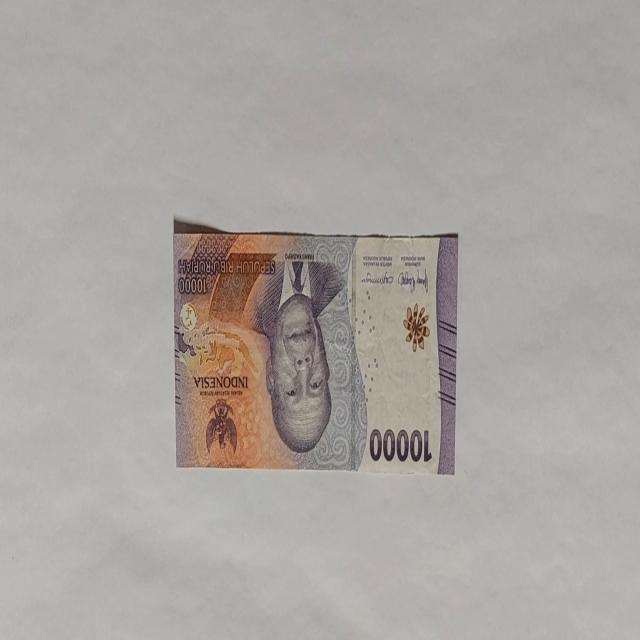sepuluh ribu rupiah: (172, 220, 458, 474), (254, 255, 346, 458)
